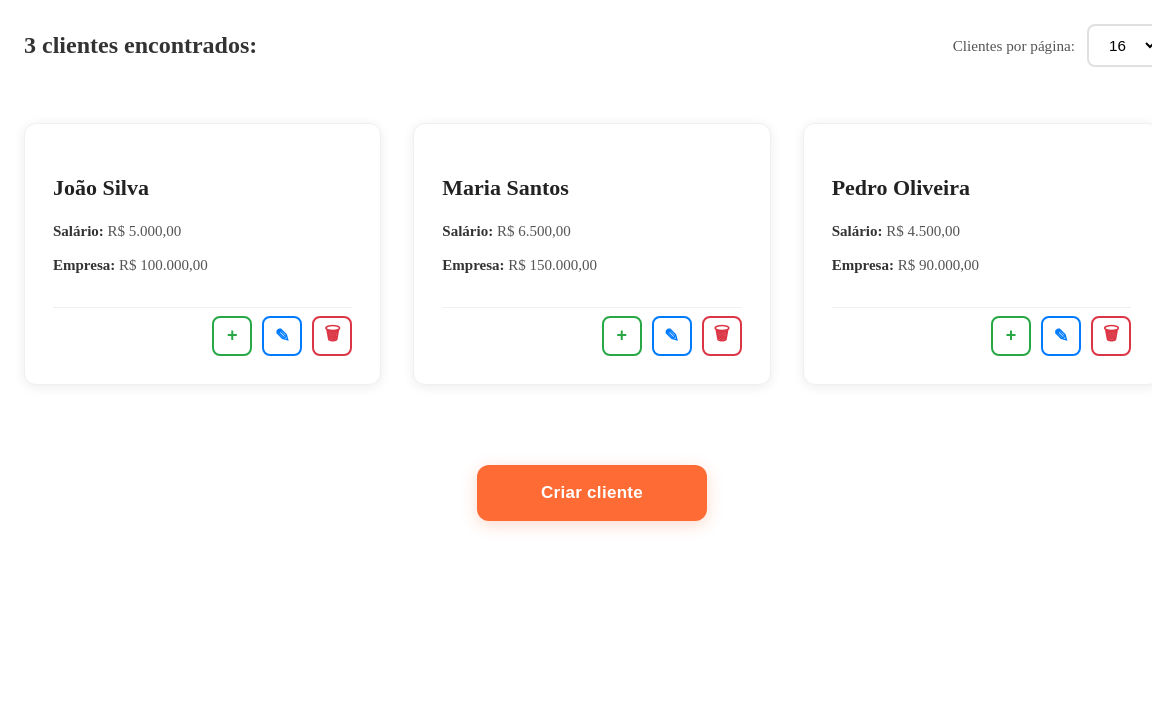
ClientsPage › deve abrir modal ao clicar em Criar cliente
Click the button "Criar cliente".
click(592, 493)  # box [477,465,707,521]
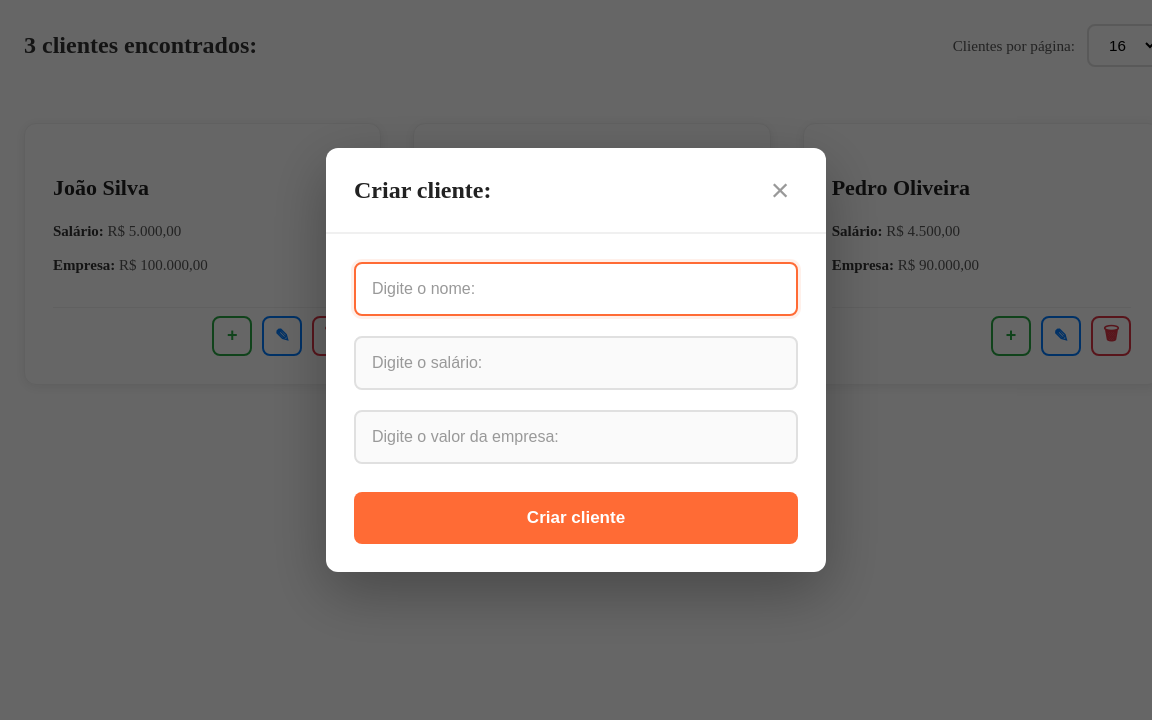
Check: the heading "Criar cliente:" is shown, box [354,176,492,204]
